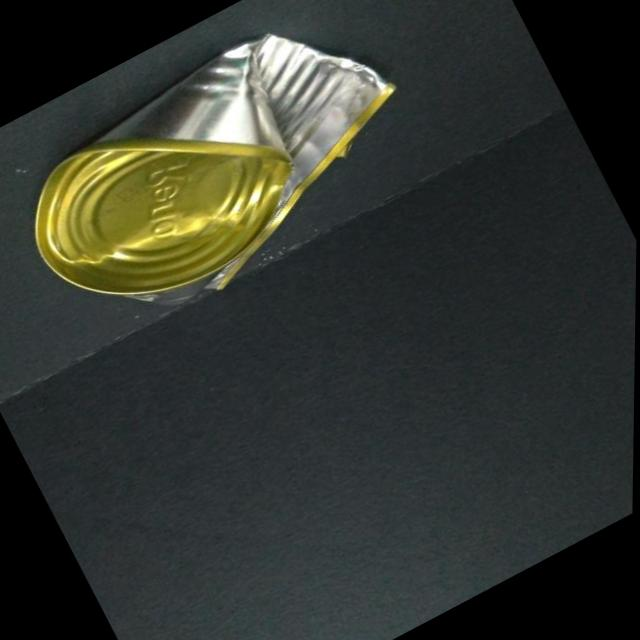metal: (0, 0, 419, 400)
